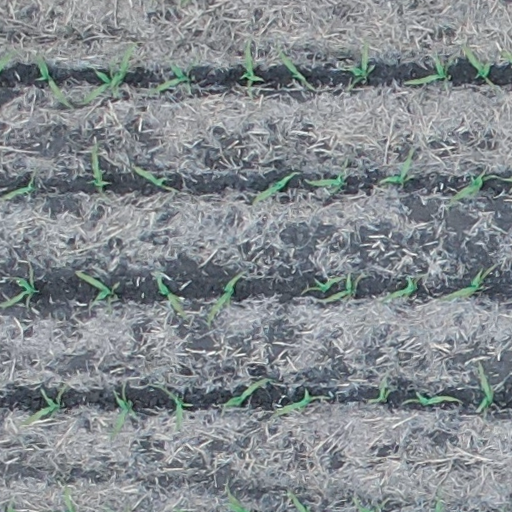planta: (79, 40, 136, 105), (440, 261, 501, 304), (32, 50, 73, 109), (202, 270, 245, 325), (20, 380, 70, 427), (151, 265, 190, 322), (446, 169, 501, 206), (270, 386, 331, 419), (107, 378, 140, 437), (220, 375, 275, 410), (157, 383, 196, 432), (249, 168, 300, 205), (402, 50, 450, 89), (72, 268, 123, 304), (148, 59, 197, 96), (276, 47, 315, 92), (238, 38, 265, 101), (129, 162, 180, 195), (339, 38, 371, 89), (377, 146, 416, 187), (321, 270, 369, 303), (459, 40, 494, 83), (299, 271, 348, 297), (473, 360, 497, 413), (302, 167, 349, 194), (87, 140, 110, 193), (381, 272, 420, 303), (399, 389, 462, 408), (365, 374, 394, 405)
